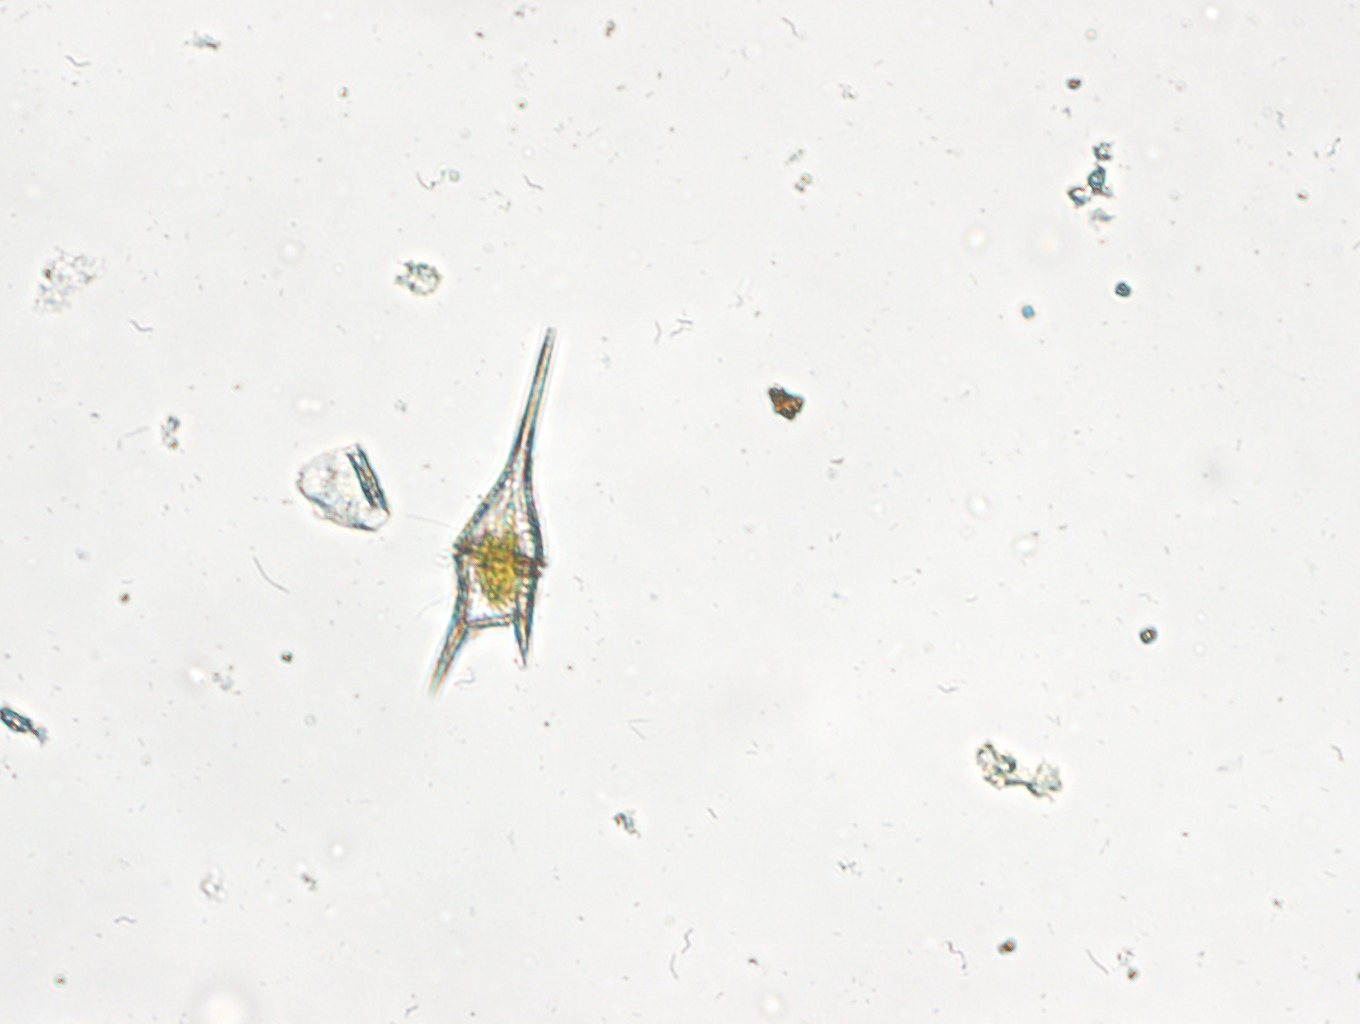ceratium furca: (428, 323, 560, 695)
